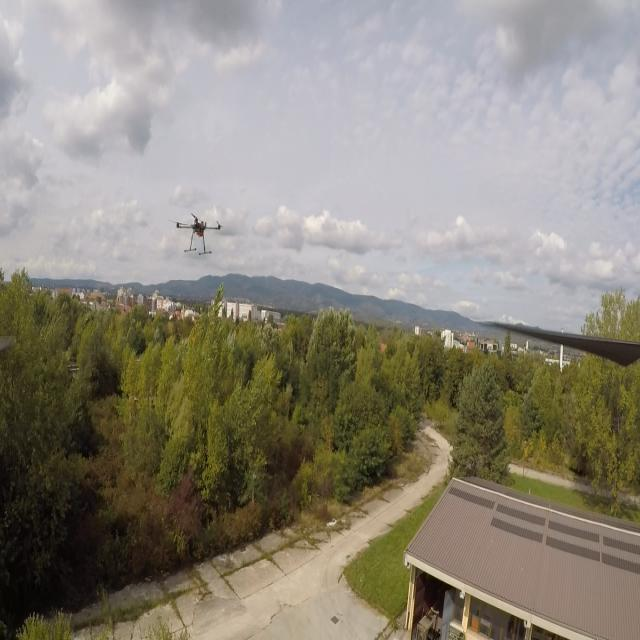UAV: (166, 207, 231, 257)
